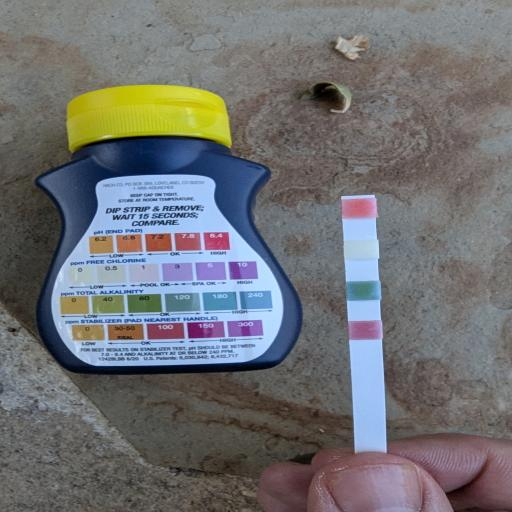strip: (342, 194, 389, 453)
